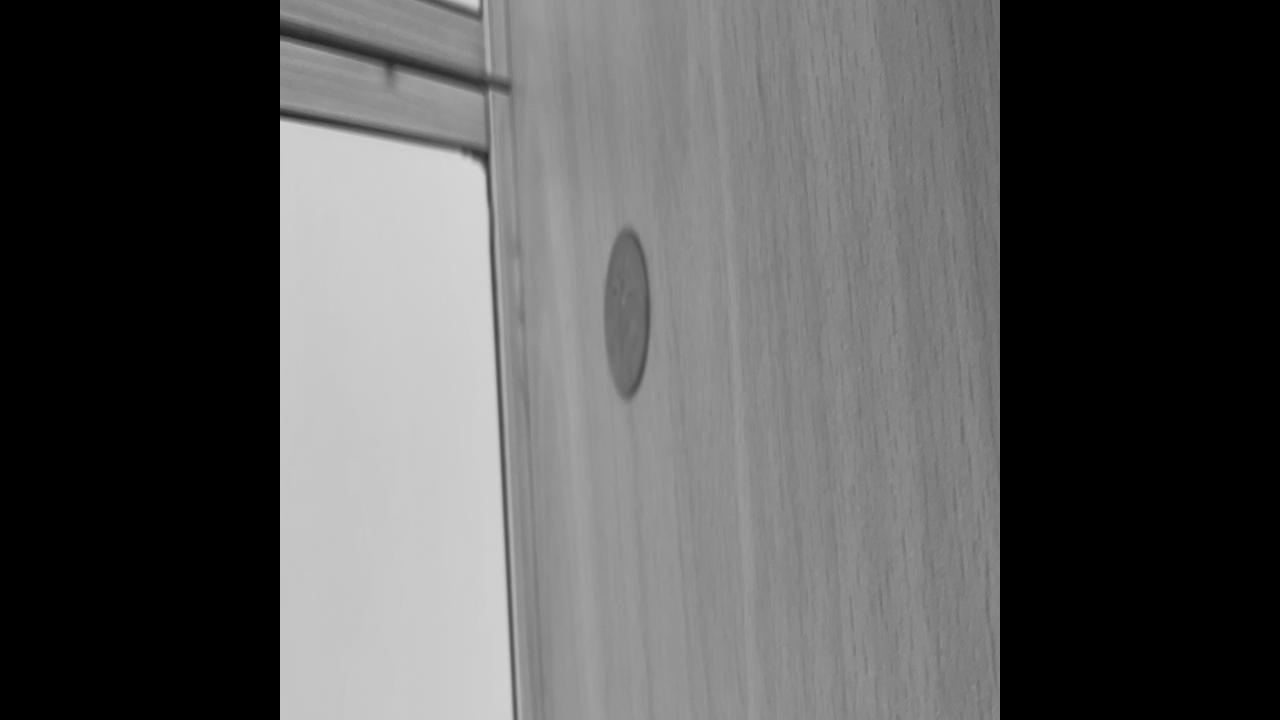coin: (600, 219, 652, 404)
